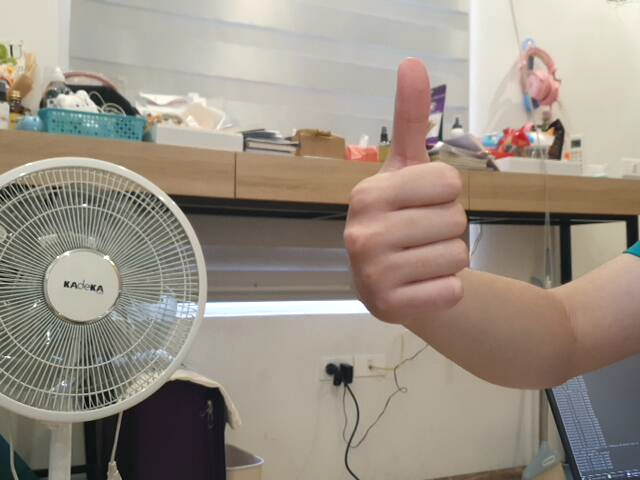ThumbsUp: (340, 53, 470, 327)
